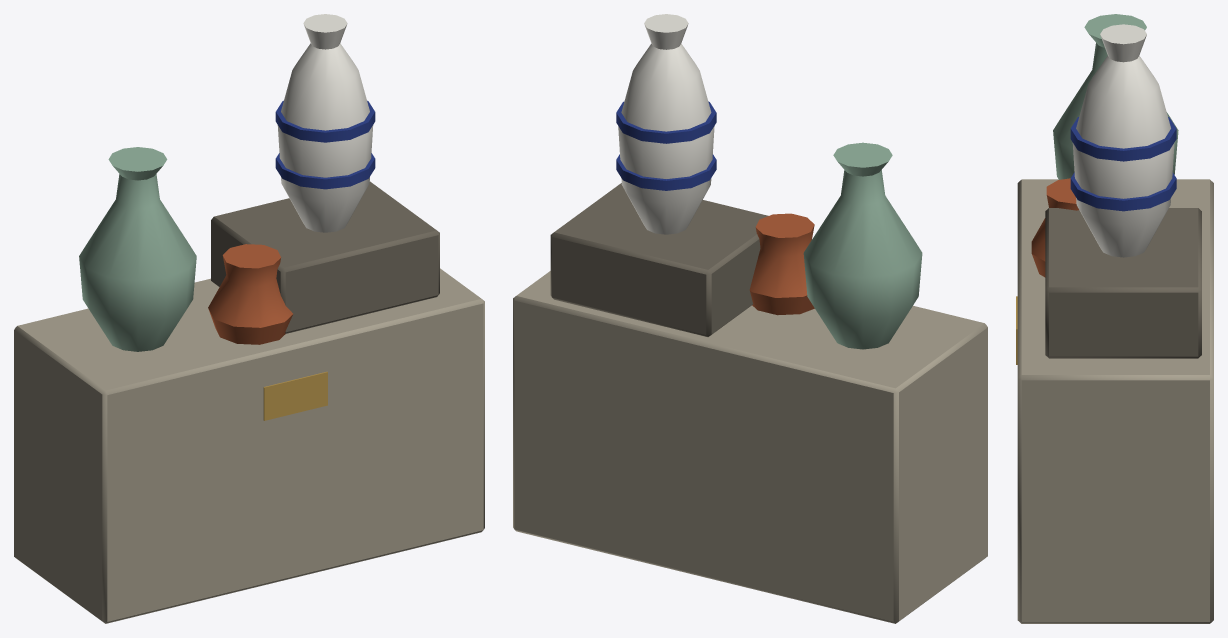
File: vase_set.glb
3 views of the same model, side by side, from view 1: azimuth 30°, elevation 25°; view 2: azimuth 150°, elevation 25°; view 3: azimuth 270°, elevation 25° (orthographic). The views are drawn at different scales.
Visible parts, largest first — view 1: Vases; view 2: Vases; view 3: Vases.
Boxes of the visible parts, x1,y1,x2,y2 form: Vases: (14, 14, 484, 623); Vases: (513, 14, 987, 623); Vases: (1016, 14, 1213, 623).
Size of the model in its own units: 1.2 by 1.5 by 0.504.
